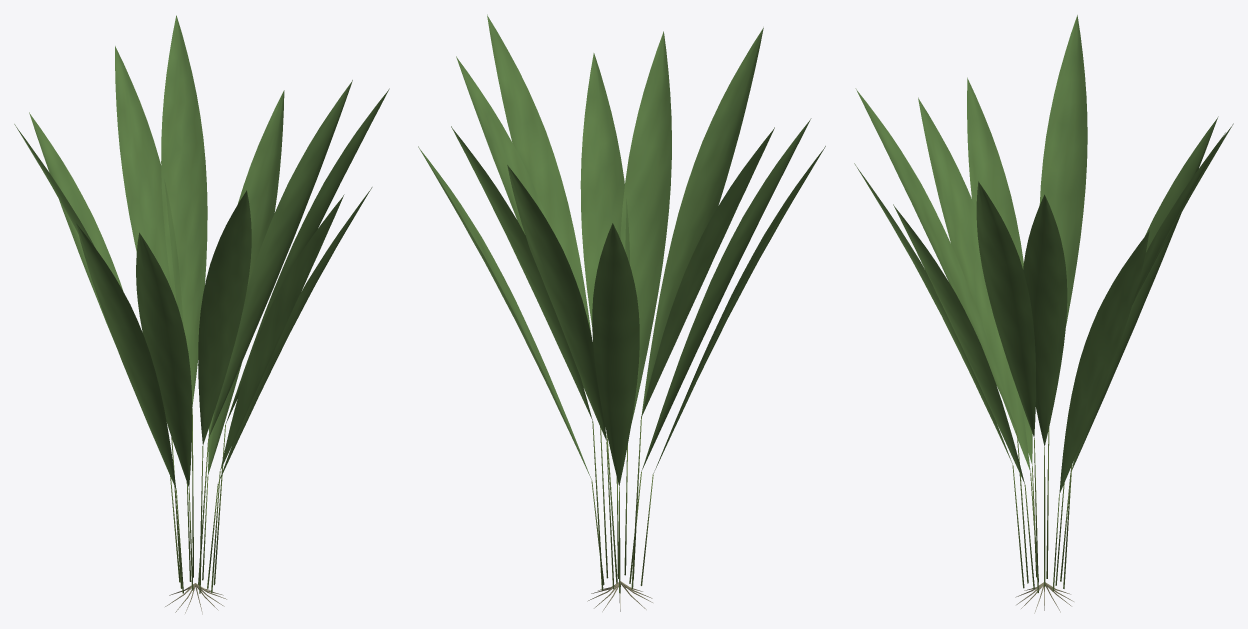
Rendered from swordplant-mobile.glb.
3 views of the same model, side by side, from view 1: azimuth 30°, elevation 25°; view 2: azimuth 150°, elevation 25°; view 3: azimuth 270°, elevation 25° (orthographic). The views are drawn at different scales.
Visible parts, largest first — view 1: blade, petiole; view 2: blade, petiole; view 3: blade, petiole.
Boxes of the visible parts, <box> form: blade: <box>14,15,389,489</box>; petiole: <box>170,408,225,593</box>; blade: <box>418,14,825,485</box>; petiole: <box>591,416,653,593</box>; blade: <box>854,15,1233,494</box>; petiole: <box>1012,428,1072,592</box>.
Bounding box in the file's own units: 0.751 × 1.12 × 0.7574.
